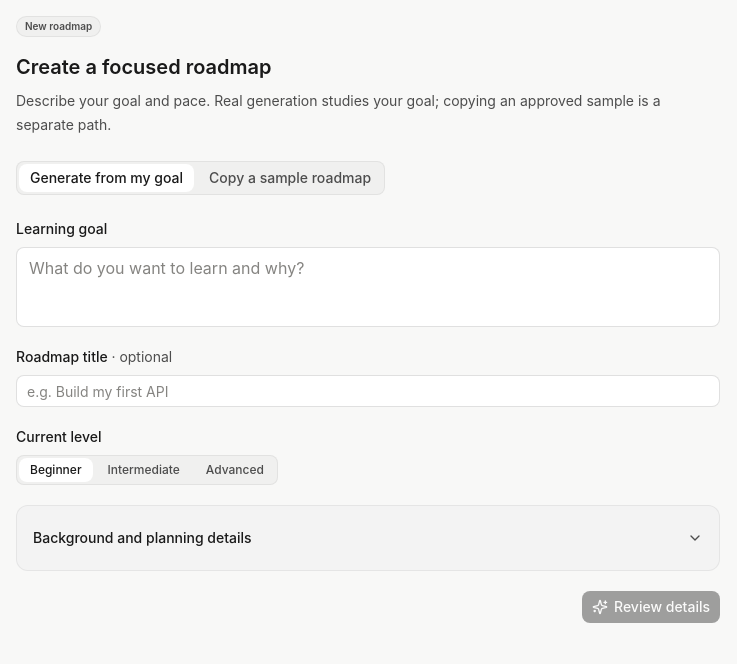
Test: StudioGoalForm (LSI-021) › blocks review until the goal meets the bounds
The width and height of the screenshot is (737, 664).
Check: the button "Review details" is disabled, box left=582, top=591, right=720, bottom=623
Type "short" into the text box labelled "Learning goal" at (368, 287), box left=16, top=247, right=720, bottom=327
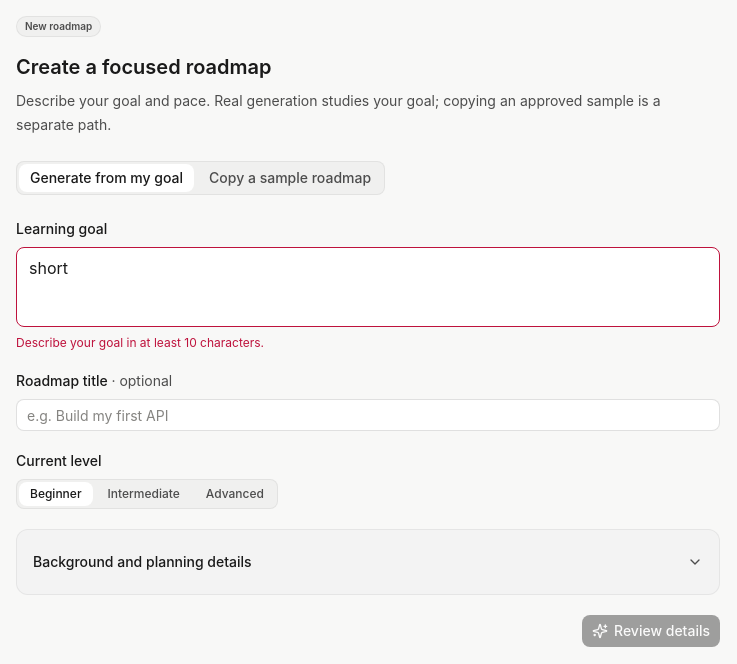
Check: the button "Review details" is disabled, box left=582, top=615, right=720, bottom=647
Check: the text "Describe your goal in at least 10 characters." is shown, box left=16, top=335, right=264, bottom=350
Replace the text in the text box labelled "Learning goal" with "Learn enough to build a small service" at (368, 287), box left=16, top=247, right=720, bottom=327
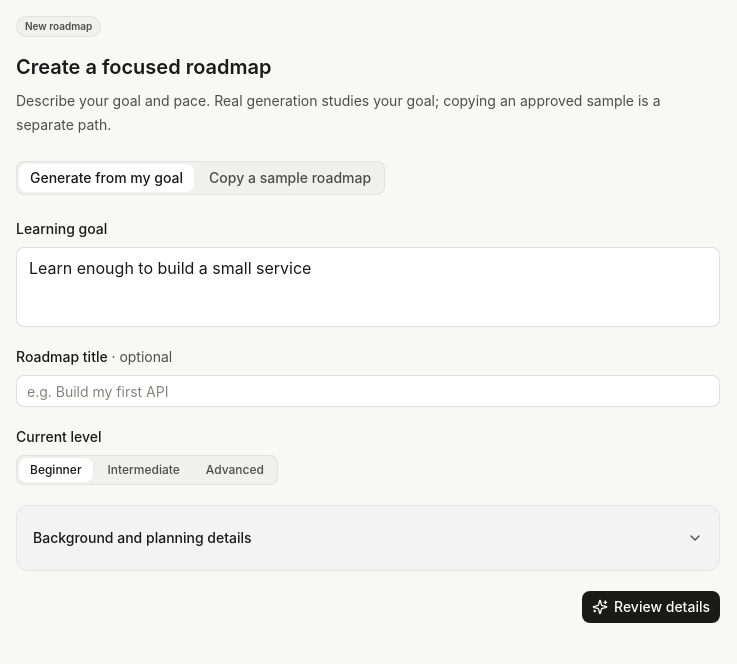
Check: the button "Review details" is enabled, box left=582, top=591, right=720, bottom=623
